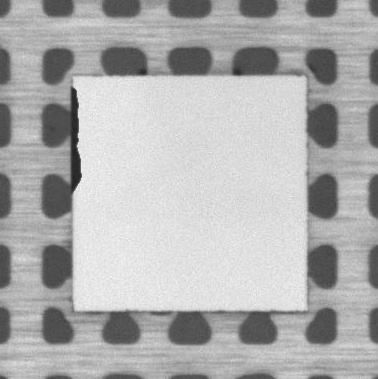DIE_BROKEN: (67, 83, 84, 193)
